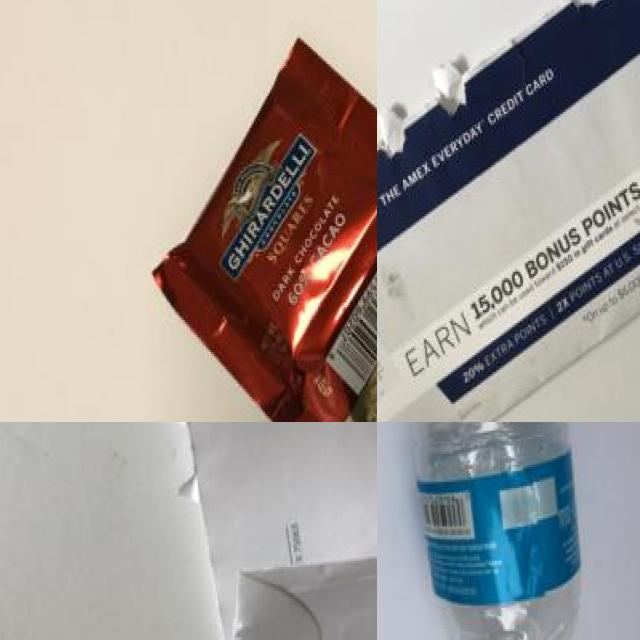paper: (377, 0, 640, 422), (112, 422, 377, 640)
plastic: (401, 422, 587, 640)
trash: (144, 36, 377, 422)
